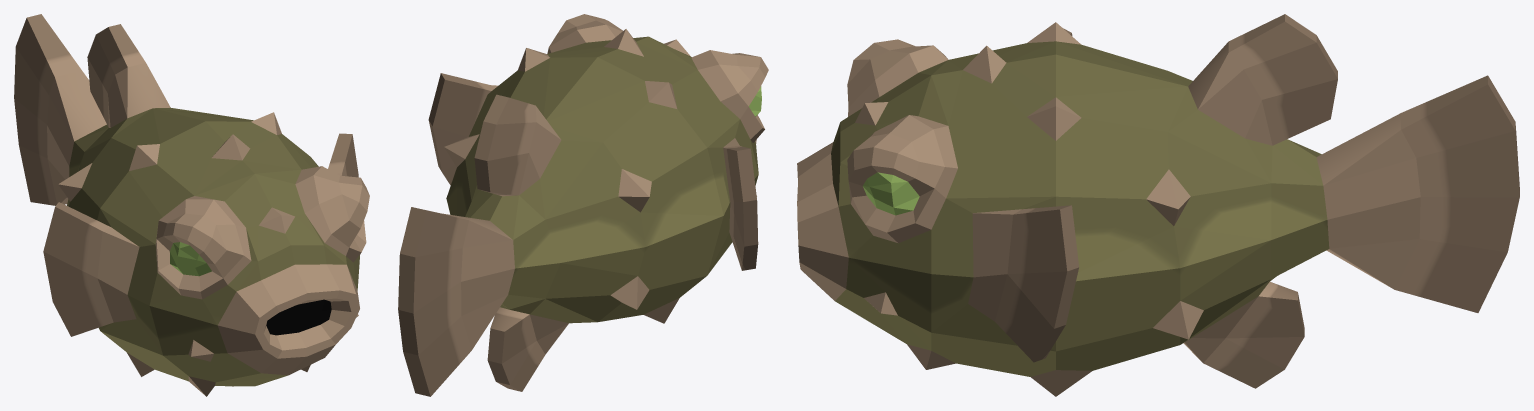
The model's file is SM_Prop_Fish_05.fbx.
3 views of the same model, side by side, from view 1: azimuth 30°, elevation 25°; view 2: azimuth 150°, elevation 25°; view 3: azimuth 270°, elevation 25° (orthographic). The views are drawn at different scales.
Visible parts, largest first — view 1: SM_Prop_Fish_05; view 2: SM_Prop_Fish_05; view 3: SM_Prop_Fish_05.
Boxes of the visible parts, x1,y1,x2,y2 form: SM_Prop_Fish_05: [14, 14, 369, 396]; SM_Prop_Fish_05: [398, 14, 768, 396]; SM_Prop_Fish_05: [797, 14, 1519, 396].
Bounding box in the file's own units: 41.63 × 36.71 × 65.56.
